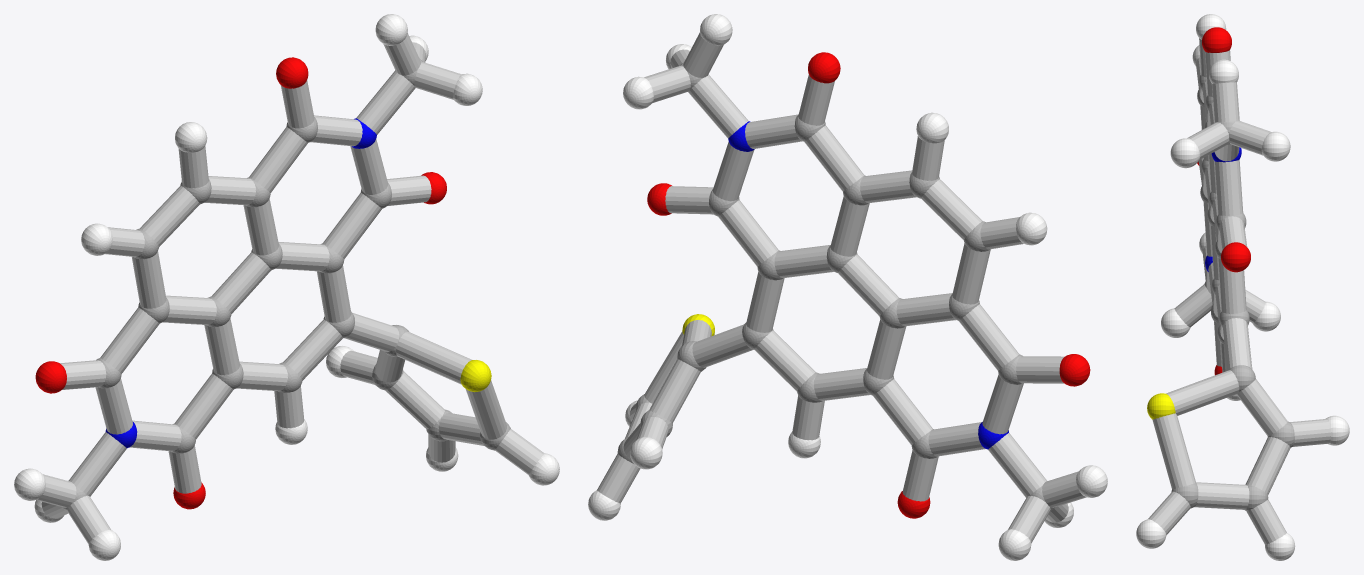
The model's file is Dimethyl_Naphthalene_Dicarboximide_Phi_30_Theta_250_Thiophene.glb.
3 views of the same model, side by side, from view 1: azimuth 30°, elevation 25°; view 2: azimuth 150°, elevation 25°; view 3: azimuth 270°, elevation 25° (orthographic). The views are drawn at different scales.
Parts seen in each view (by area): view 1: grp14119, grp7241, grp1, grp12309, grp13757, grp11585; view 2: grp14119, grp7241, grp1, grp12309, grp11585; view 3: grp14119, grp7241, grp1, grp12309, grp13757.
Boxes of the visible parts, box(x1,y1,x2,y2) form: grp14119: box(36, 33, 544, 543); grp7241: box(14, 14, 559, 560); grp1: box(62, 59, 510, 510); grp12309: box(35, 57, 446, 509); grp13757: box(460, 360, 491, 392); grp11585: box(105, 118, 376, 448); grp14119: box(597, 32, 1086, 543); grp7241: box(588, 14, 1107, 560); grp1: box(617, 62, 1054, 511); grp12309: box(647, 52, 1090, 518); grp11585: box(728, 121, 1008, 449); grp14119: box(1148, 38, 1331, 544); grp7241: box(1136, 14, 1349, 560); grp1: box(1171, 74, 1294, 510); grp12309: box(1197, 27, 1250, 375); grp13757: box(1147, 393, 1175, 419).
Bounding box in the file's own units: 10.82 × 10.12 × 4.24.
